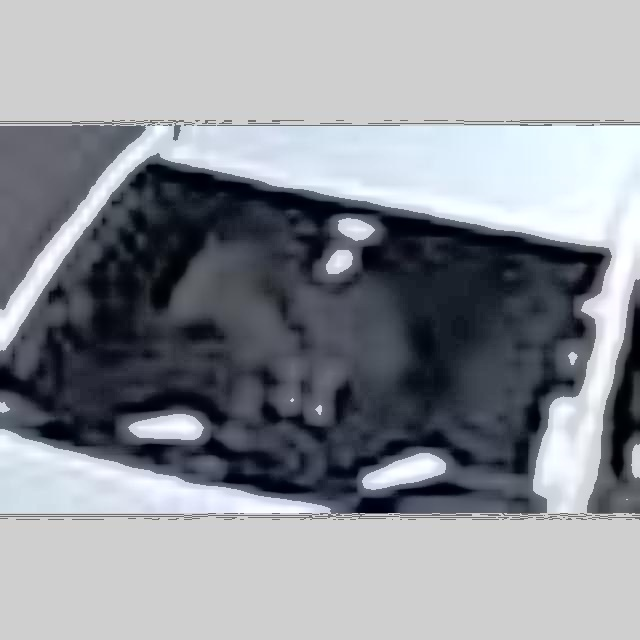pakai: (153, 216, 397, 396)
